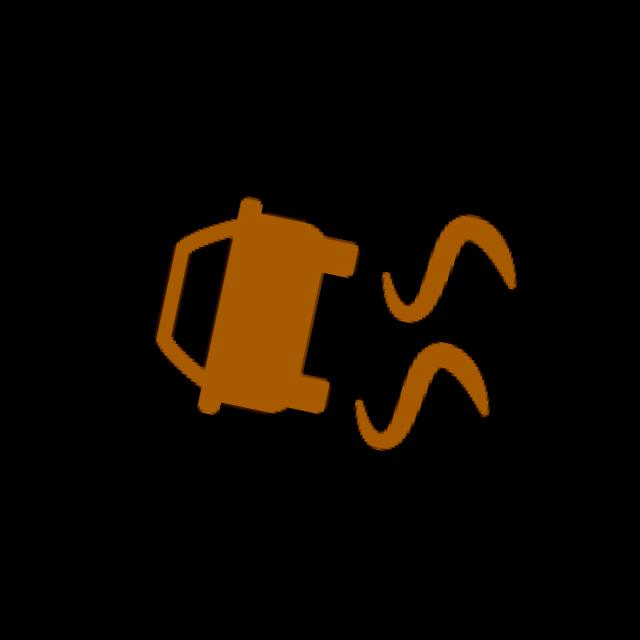kontrolka: (123, 140, 548, 513)
